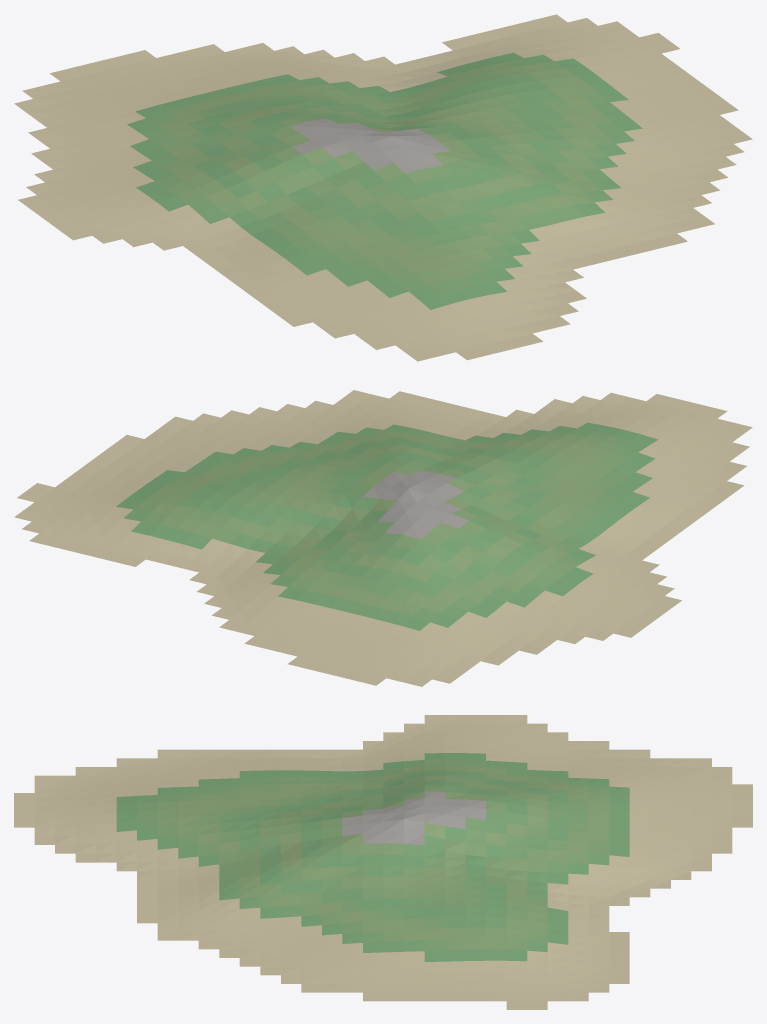
Rendered from island_beta.glb.
The picture shows the model from 3 angles, top to bottom: view 1: azimuth 30°, elevation 25°; view 2: azimuth 150°, elevation 25°; view 3: azimuth 270°, elevation 25°; orthographic projection. The views are drawn at different scales.
Parts seen in each view (by area): view 1: island_beta; view 2: island_beta; view 3: island_beta.
Boxes of the visible parts, x1=… form: island_beta: x1=14, y1=14, x2=752, y2=361; island_beta: x1=14, y1=390, x2=752, y2=686; island_beta: x1=14, y1=715, x2=752, y2=1009.
Size of the model in its own units: 157 by 8.6 by 166.
